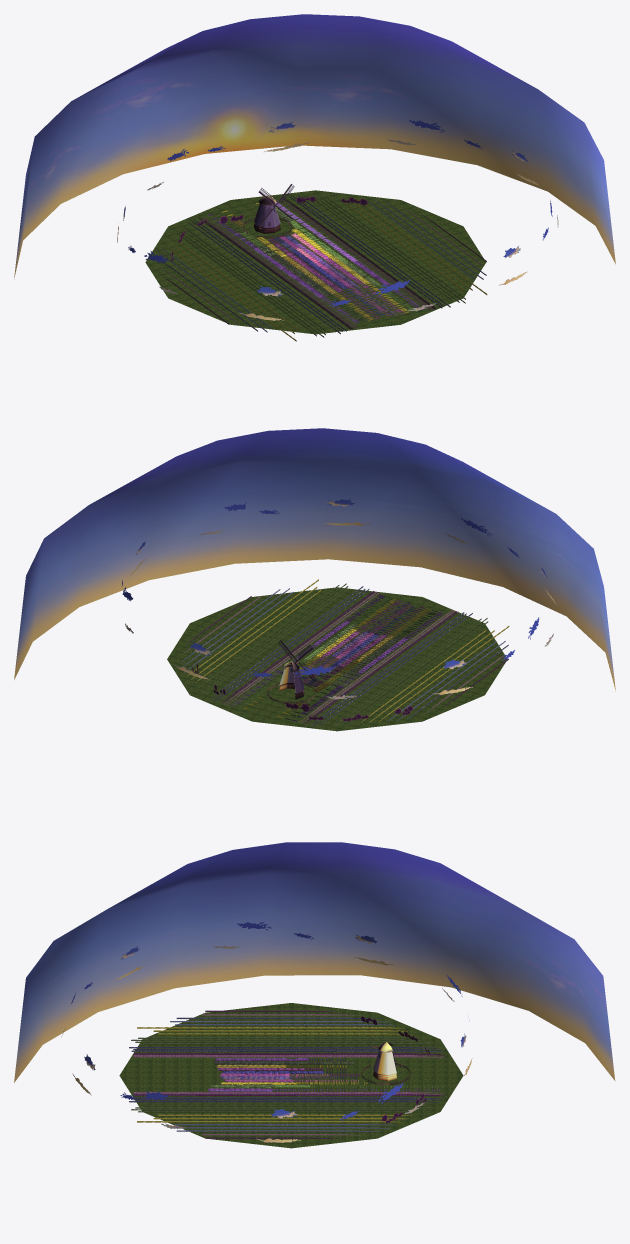
Rendered from WindMill.glb.
The picture shows the model from 3 angles, top to bottom: view 1: azimuth 30°, elevation 25°; view 2: azimuth 150°, elevation 25°; view 3: azimuth 270°, elevation 25°; orthographic projection.
Parts seen in each view (by area): view 1: Dawn Windmill_mesh.001, Dawn Windmill_mesh.002, Dawn Windmill_mesh.007, Dawn Windmill_mesh.005, Dawn Windmill_mesh.006, Dawn Windmill_mesh, Dawn Windmill_mesh.003; view 2: Dawn Windmill_mesh.001, Dawn Windmill_mesh.002, Dawn Windmill_mesh.007, Dawn Windmill_mesh.006, Dawn Windmill_mesh.005, Dawn Windmill_mesh, Dawn Windmill_mesh.003; view 3: Dawn Windmill_mesh.001, Dawn Windmill_mesh.002, Dawn Windmill_mesh.007, Dawn Windmill_mesh.005, Dawn Windmill_mesh.006, Dawn Windmill_mesh, Dawn Windmill_mesh.003.
Part boxes in pixels (x1,y1,x2,y2): Dawn Windmill_mesh.001: (14,14,615,279); Dawn Windmill_mesh.002: (145,190,486,334); Dawn Windmill_mesh.007: (158,195,487,341); Dawn Windmill_mesh.005: (222,201,424,316); Dawn Windmill_mesh.006: (167,196,384,323); Dawn Windmill_mesh: (117,120,558,320); Dawn Windmill_mesh.003: (242,195,291,238); Dawn Windmill_mesh.001: (14,428,615,691); Dawn Windmill_mesh.002: (167,587,507,731); Dawn Windmill_mesh.007: (179,579,509,726); Dawn Windmill_mesh.006: (192,606,443,721); Dawn Windmill_mesh.005: (230,595,413,718); Dawn Windmill_mesh: (122,499,557,699); Dawn Windmill_mesh.003: (267,661,316,704); Dawn Windmill_mesh.001: (14,842,615,1082); Dawn Windmill_mesh.002: (119,1003,462,1148); Dawn Windmill_mesh.007: (129,1010,443,1138); Dawn Windmill_mesh.005: (208,1058,443,1091); Dawn Windmill_mesh.006: (214,1016,429,1123); Dawn Windmill_mesh: (61,922,472,1142); Dawn Windmill_mesh.003: (361,1042,411,1085).
Size of the model in its own units: 204 by 85.75 by 204.
Materials: 8 (8 with a texture image).
